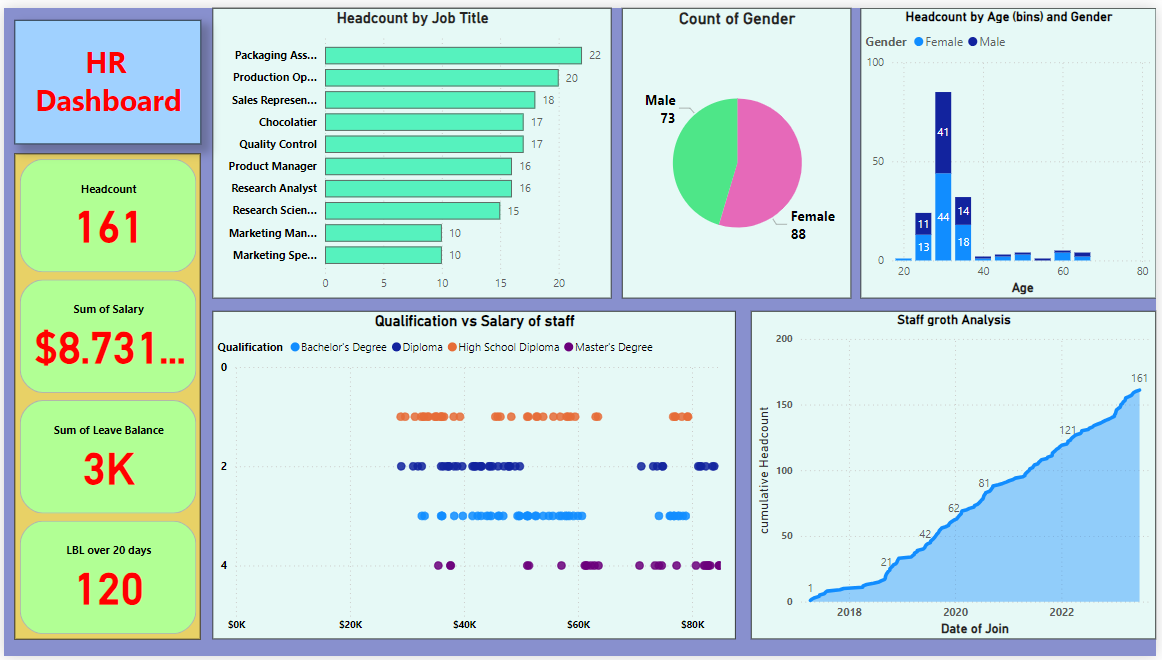

The dashboard page shown, as its layout file describes it:
{"tool":"powerbi","page":{"name":"DASHBOARD","canvas":[1280,720],"ordinal":10},"visuals":[{"type":"clusteredBarChart","fields":{"Category":["staff.Job Title"],"Y":["staff.Measure"]},"box":[231.7,0,443.7,322.5],"z":0},{"type":"pieChart","title":"Count of Gender","fields":{"Category":["staff.Gender"],"Y":["CountNonNull(staff.Gender)"]},"box":[685.9,0,254.4,322.5],"z":1000},{"type":"columnChart","fields":{"Category":["staff.Age (bins)"],"Y":["staff.Headcount"],"Rows":["staff.Gender"]},"box":[950.9,0,328.6,322.5],"z":2000},{"type":"scatterChart","title":"Qualification vs Salary of staff","fields":{"X":["staff.Salary"],"Y":["Qual.Qualification ID"],"Series":["Qual.Qualification"]},"box":[231.7,336.2,581.5,364.9],"z":3000},{"type":"lineChart","title":"Staff groth Analysis","fields":{"Y":["staff.cumulative Headcount"],"Category":["staff.Date of Join"]},"box":[829.8,336.2,449.7,364.9],"z":4000},{"type":"cardVisual","fields":{"Data":["staff.Headcount","Sum(staff.Salary)","Sum(staff.Leave Balance)","staff.LBL over 20 days"]},"box":[12.1,162,207.4,539.1],"z":5000},{"type":"textbox","box":[12.1,13.6,207.4,137.8],"z":6000}]}

Visuals, with their boxes in screenshot pixels (x1, y1, x2, y2), scaled from the page's 1280x720 canvas onto the 1162x660 screenshot:
clusteredBarChart - staff.Job Title x staff.Measure: {"x1": 210, "y1": 0, "x2": 613, "y2": 296}
"Count of Gender" pieChart: {"x1": 623, "y1": 0, "x2": 854, "y2": 296}
columnChart - staff.Age (bins) x staff.Headcount: {"x1": 863, "y1": 0, "x2": 1161, "y2": 296}
"Qualification vs Salary of staff" scatterChart: {"x1": 210, "y1": 308, "x2": 738, "y2": 643}
"Staff groth Analysis" lineChart: {"x1": 753, "y1": 308, "x2": 1161, "y2": 643}
cardVisual - staff.Headcount x Sum(staff.Salary): {"x1": 11, "y1": 148, "x2": 199, "y2": 643}
textbox: {"x1": 11, "y1": 12, "x2": 199, "y2": 139}
